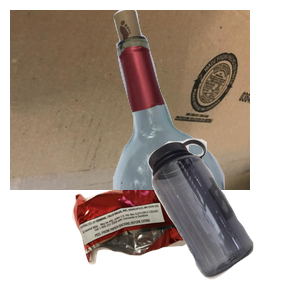cardboard: (10, 10, 250, 190)
glass: (89, 10, 300, 190)
plastic: (145, 136, 300, 300)
trash: (70, 162, 257, 300)
